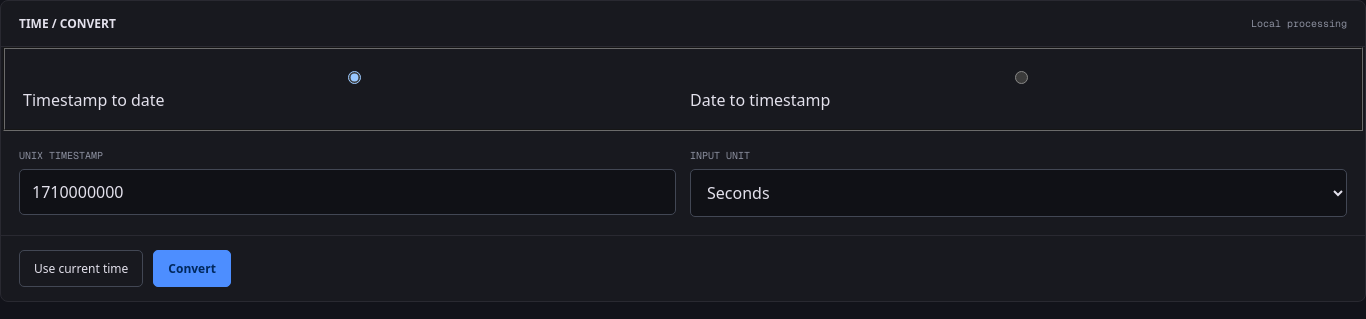
TimestampConverter � Level 3 advanced/risk-driven › uses the browser clock for the current-time action (time-dependent default risk)
Type "1" into the field labelled "Unix timestamp".
click(348, 192); type("1")  # box [19,169,676,215]
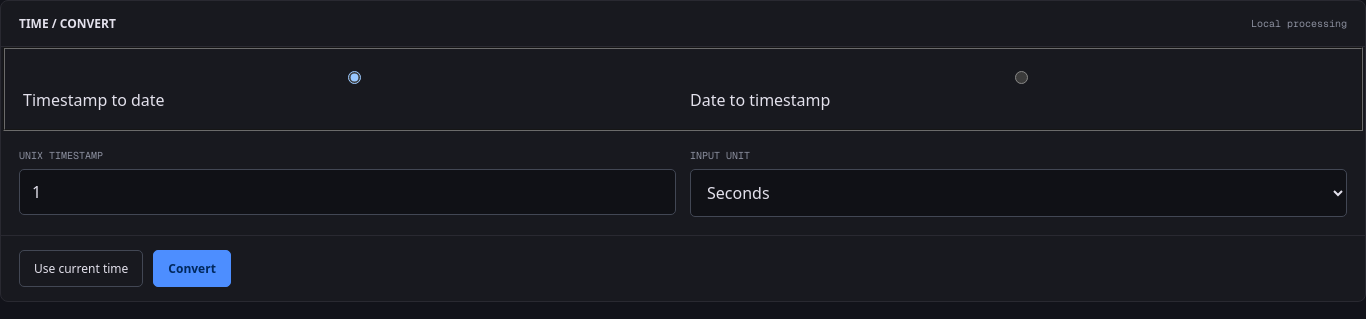
Click the button "Use current time".
click(81, 268)  # box [19,250,143,287]
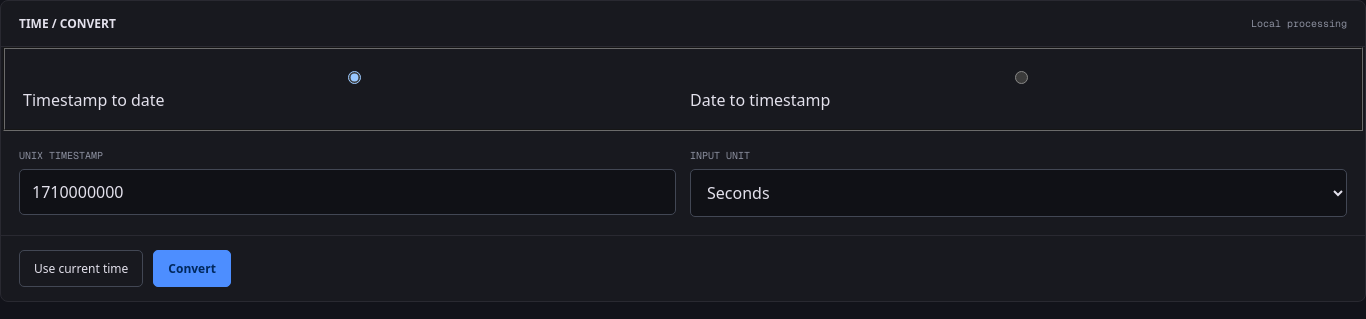
Now the field labelled "Unix timestamp" holds "1710000000", box [19,169,676,215]
